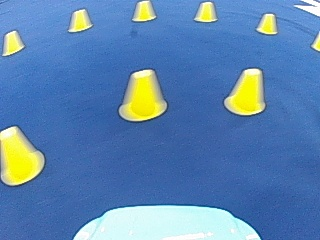cone: (0, 125, 43, 185), (119, 68, 167, 121), (225, 67, 265, 115), (68, 8, 92, 32), (2, 30, 24, 55), (132, 0, 155, 21), (256, 12, 277, 35), (194, 1, 217, 22), (310, 30, 319, 51)
